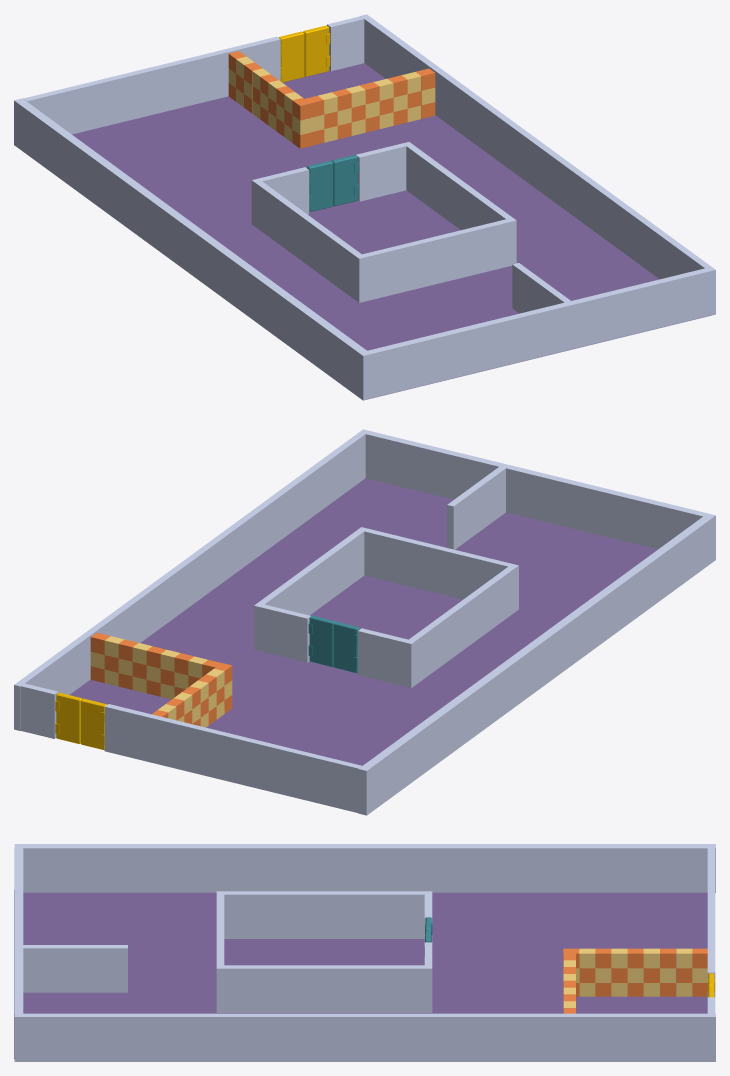
The model's file is maps31.fbx.
3 views of the same model, one above another, from view 1: azimuth 30°, elevation 25°; view 2: azimuth 150°, elevation 25°; view 3: azimuth 270°, elevation 25° (orthographic).
Parts seen in each view (by area): view 1: wall_01_08_geo, wall_01_07_geo, wall_01_05_geo, wall_01_06_geo, wall_01_09_geo, wall_01_09_geo1, wall_01_09_geo4, wall_01_09_geo3, wall_01_09_geo2, wall_01_09_geo7, wall_01_09_geo5, wall_01_09_geo6 (+4 smaller); view 2: wall_01_08_geo, wall_01_07_geo, wall_01_06_geo, wall_01_05_geo, wall_01_09_geo, wall_01_09_geo1, wall_01_09_geo4, wall_01_09_geo3, wall_01_09_geo5, wall_01_09_geo6, wall_01_09_geo2, wall_01_09_geo7 (+4 smaller); view 3: wall_01_08_geo, wall_01_06_geo, wall_01_07_geo, wall_01_09_geo3, wall_01_09_geo4, wall_01_09_geo5, wall_01_05_geo, wall_01_09_geo, wall_01_09_geo1, wall_01_09_geo2.
Part boxes in pixels (x1,y1,x2,y2): wall_01_08_geo: [72, 63, 711, 399]; wall_01_07_geo: [14, 98, 371, 400]; wall_01_05_geo: [367, 268, 709, 398]; wall_01_06_geo: [360, 14, 715, 315]; wall_01_09_geo: [23, 36, 280, 134]; wall_01_09_geo1: [355, 217, 516, 302]; wall_01_09_geo4: [255, 181, 361, 299]; wall_01_09_geo3: [406, 144, 512, 229]; wall_01_09_geo2: [356, 142, 412, 201]; wall_01_09_geo7: [327, 16, 364, 71]; wall_01_09_geo5: [512, 263, 570, 313]; wall_01_09_geo6: [251, 167, 309, 226]; wall_01_08_geo: [70, 478, 657, 765]; wall_01_07_geo: [358, 513, 715, 815]; wall_01_06_geo: [14, 429, 369, 730]; wall_01_05_geo: [365, 431, 706, 549]; wall_01_09_geo: [104, 704, 361, 812]; wall_01_09_geo1: [358, 527, 518, 611]; wall_01_09_geo4: [409, 566, 514, 684]; wall_01_09_geo3: [258, 530, 364, 615]; wall_01_09_geo5: [447, 466, 505, 549]; wall_01_09_geo6: [358, 628, 415, 688]; wall_01_09_geo2: [254, 603, 310, 662]; wall_01_09_geo7: [21, 683, 58, 738]; wall_01_08_geo: [14, 890, 707, 1059]; wall_01_06_geo: [14, 1013, 715, 1061]; wall_01_07_geo: [14, 844, 715, 892]; wall_01_09_geo3: [224, 965, 424, 1012]; wall_01_09_geo4: [224, 891, 424, 938]; wall_01_09_geo5: [23, 945, 127, 992]; wall_01_05_geo: [14, 848, 23, 1057]; wall_01_09_geo: [707, 848, 715, 997]; wall_01_09_geo1: [216, 891, 224, 1012]; wall_01_09_geo2: [424, 942, 432, 1012].
Bounding box in the file's own units: 73.34 × 9.2 × 126.
3 materials, 3 textured.
